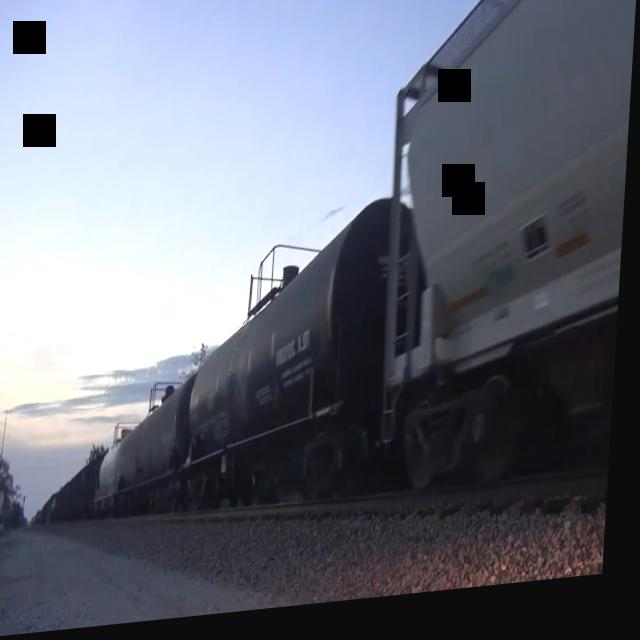hopper: (370, 0, 640, 545)
tank: (181, 191, 419, 546), (114, 368, 200, 529)
